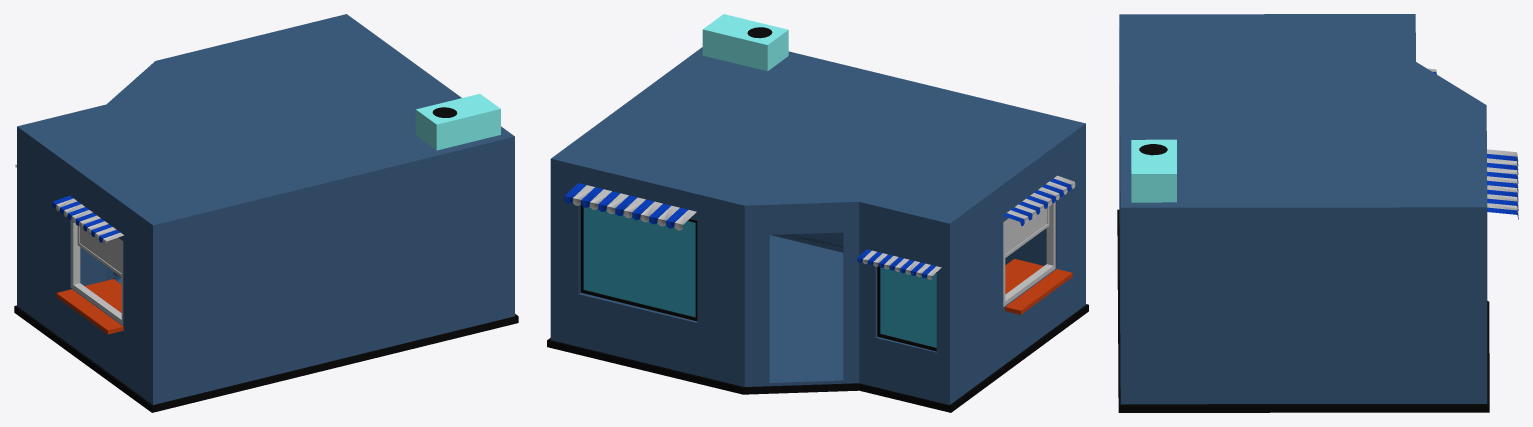
Rendered from house.obj.
The picture shows the model from 3 angles, left to right: view 1: azimuth 30°, elevation 25°; view 2: azimuth 150°, elevation 25°; view 3: azimuth 270°, elevation 25°; orthographic projection. The views are drawn at different scales.
Visible parts, largest first — view 1: house.001; view 2: house.001; view 3: house.001.
Part boxes in pixels (bbox=[...]): house.001: bbox=[14, 14, 518, 412]; house.001: bbox=[547, 14, 1088, 412]; house.001: bbox=[1117, 14, 1518, 412].
Bounding box in the file's own units: 26.43 × 14 × 21.89.
